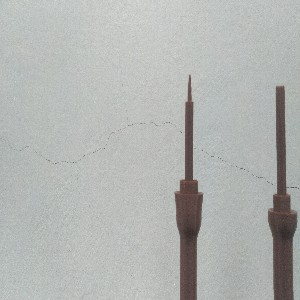obeng: (267, 84, 297, 300)
solder: (174, 73, 204, 300)
